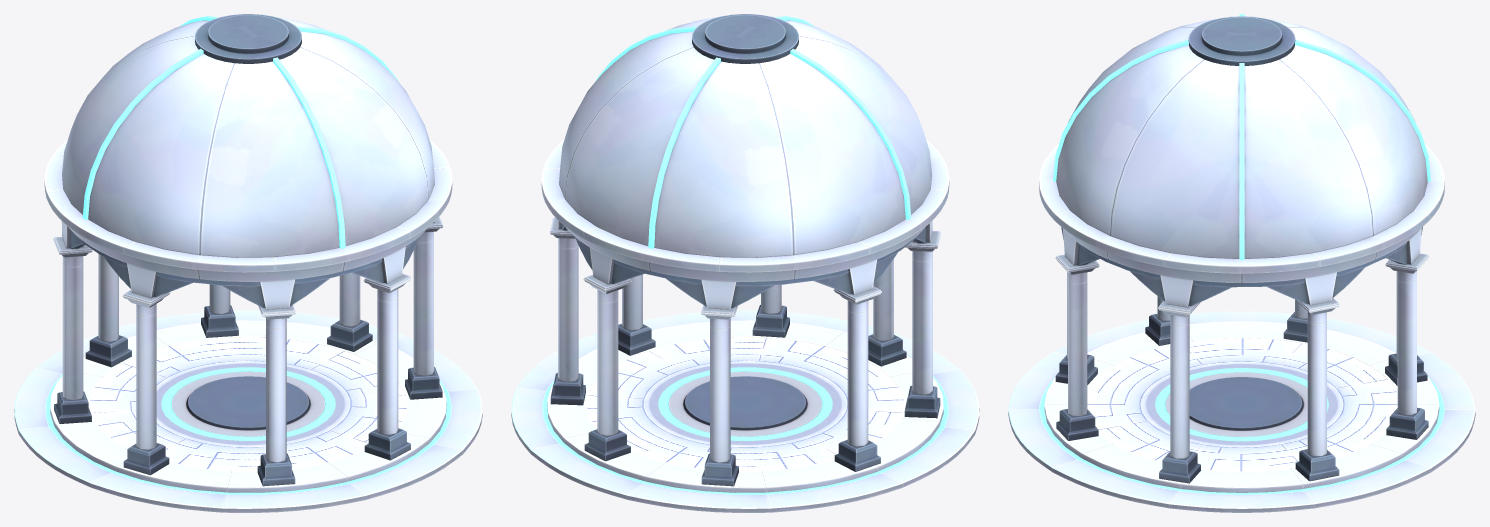
The model's file is obj_pavilion.gltf.
The picture shows the model from 3 angles, left to right: view 1: azimuth 30°, elevation 25°; view 2: azimuth 150°, elevation 25°; view 3: azimuth 270°, elevation 25°; orthographic projection.
Parts seen in each view (by area): view 1: obj_pavilion; view 2: obj_pavilion; view 3: obj_pavilion.
Part boxes in pixels (bbox=[...]): obj_pavilion: bbox=[14, 14, 482, 512]; obj_pavilion: bbox=[511, 14, 979, 512]; obj_pavilion: bbox=[1008, 14, 1475, 512].
Size of what is drawn, in the model's own units: 17.07 by 15.37 by 17.12.
8 materials, 7 textured.
